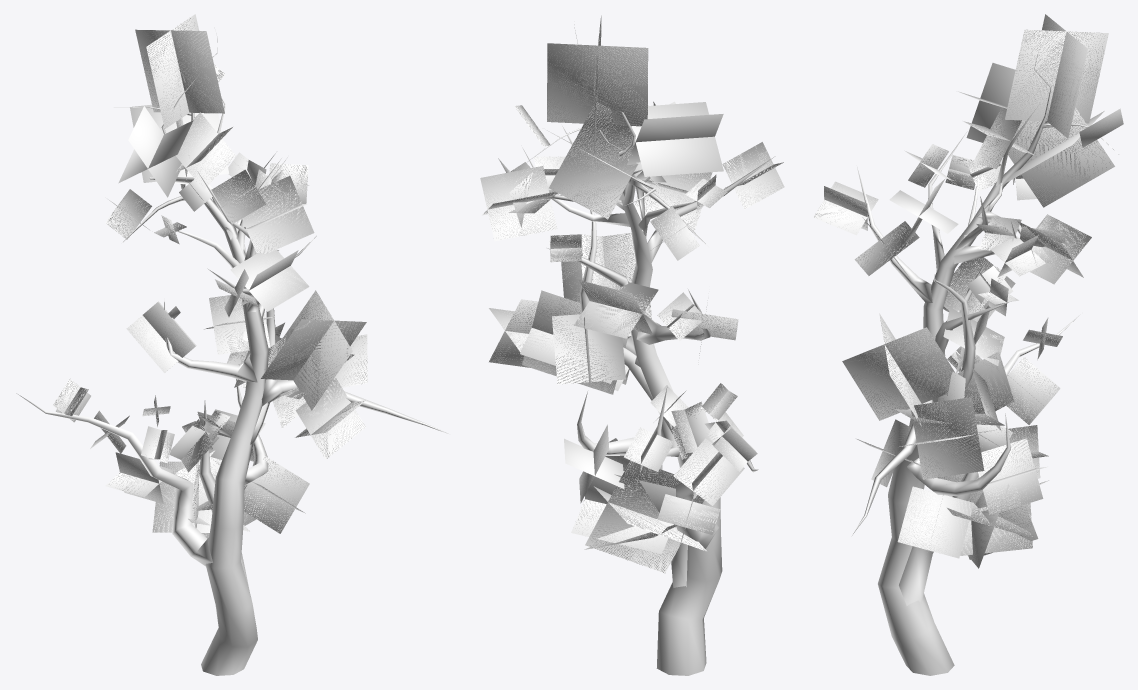
File: Tree.fbx
The picture shows the model from 3 angles, left to right: view 1: azimuth 30°, elevation 25°; view 2: azimuth 150°, elevation 25°; view 3: azimuth 270°, elevation 25°; orthographic projection. The views are drawn at different scales.
Visible parts, largest first — view 1: Tree; view 2: Tree; view 3: Tree.
Boxes of the visible parts, x1=… form: Tree: x1=16, y1=14, x2=448, y2=675; Tree: x1=480, y1=15, x2=784, y2=675; Tree: x1=813, y1=14, x2=1123, y2=675.
Size of the model in its own units: 853 by 1474 by 638.
Materials: 2 (2 with a texture image).
